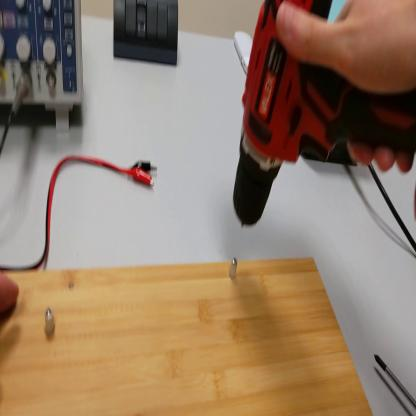electric screwdriver: (232, 1, 416, 243)
hand: (276, 4, 416, 173), (1, 269, 21, 315)
oscilloscope: (2, 2, 86, 132)
screwdriver-: (377, 356, 416, 408)
working area: (1, 253, 376, 415)
